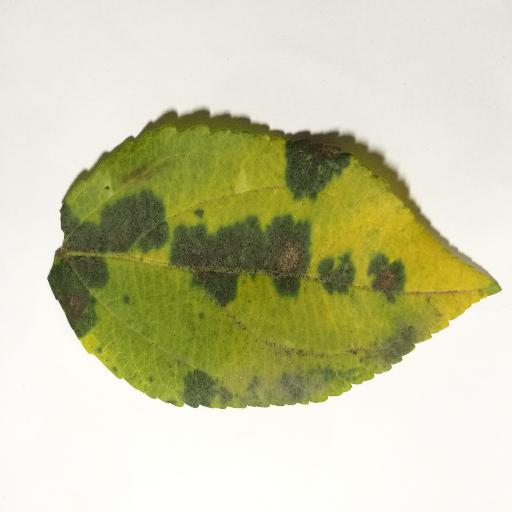Brown_Spot: (64, 196, 404, 382)
